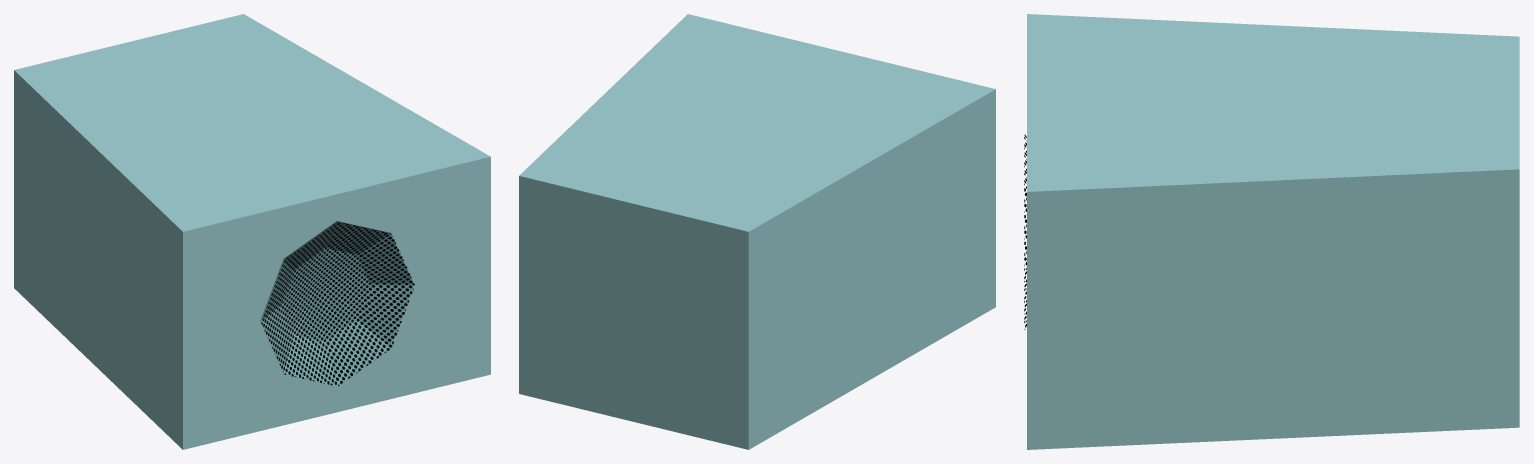
File: Itr_Obj_Speaker3_Top_06.FBX
The picture shows the model from 3 angles, left to right: view 1: azimuth 30°, elevation 25°; view 2: azimuth 150°, elevation 25°; view 3: azimuth 270°, elevation 25°; orthographic projection. The views are drawn at different scales.
Parts seen in each view (by area): view 1: Itr_Obj_Speaker3_Top_06; view 2: Itr_Obj_Speaker3_Top_06; view 3: Itr_Obj_Speaker3_Top_06.
Boxes of the visible parts, x1,y1,x2,y2 form: Itr_Obj_Speaker3_Top_06: [14, 14, 490, 449]; Itr_Obj_Speaker3_Top_06: [519, 14, 995, 449]; Itr_Obj_Speaker3_Top_06: [1024, 14, 1519, 449].
Bounding box in the file's own units: 9.88 × 6.69 × 11.62.
